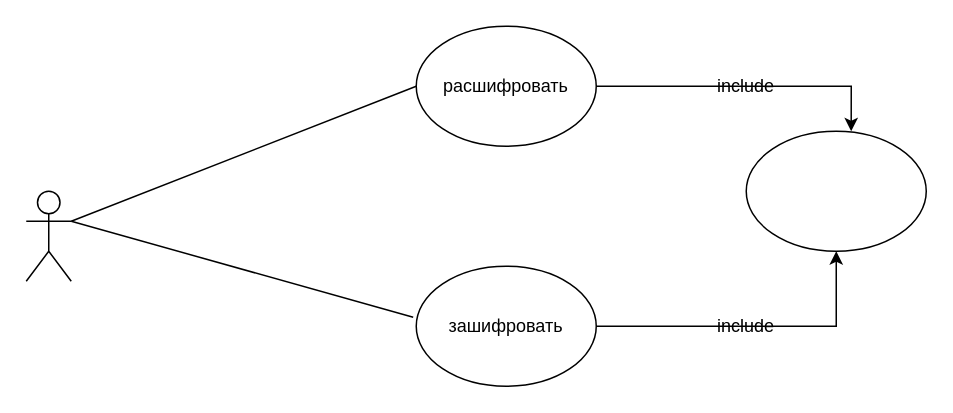
Image size: 953x413. Some labels were removed from this diagram. The shapes that lost their labels are listed below. From the top down, each one's centre as x and y in pixels, then its label:
At point (835, 190): "ввод текста".
At point (48, 235): "Actor".
